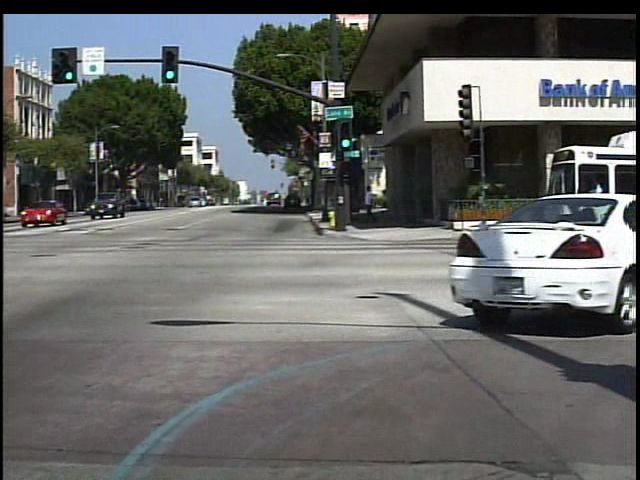person: (361, 181, 381, 225)
